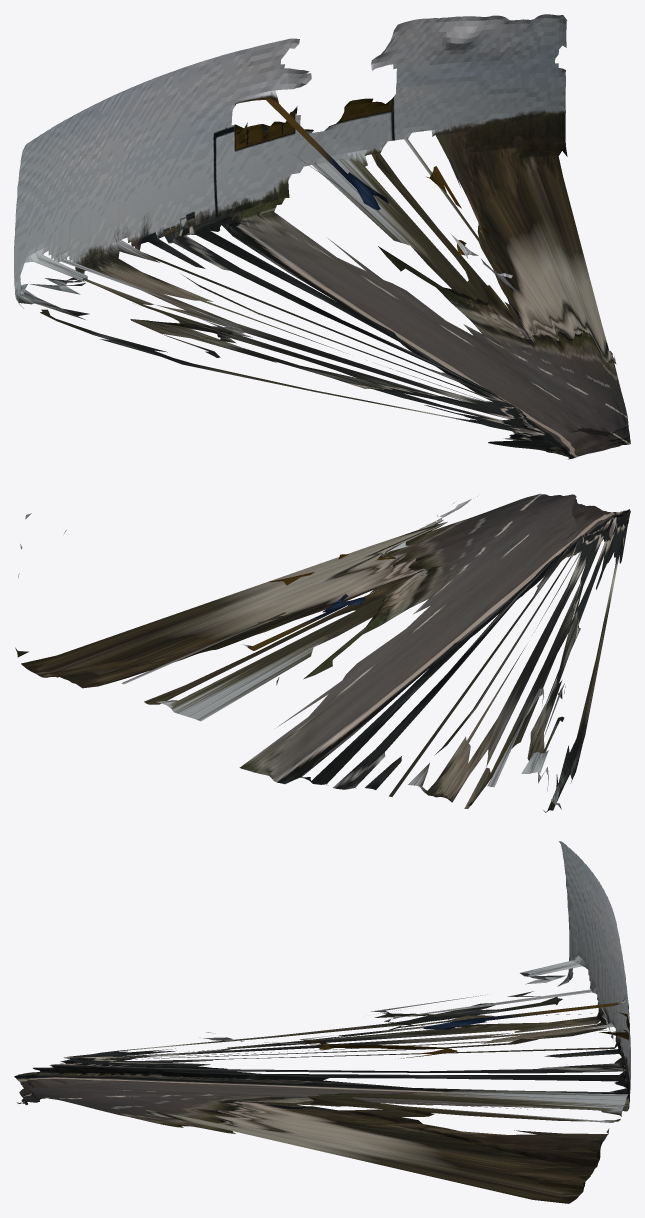
3 views of the same model, one above another, from view 1: azimuth 30°, elevation 25°; view 2: azimuth 150°, elevation 25°; view 3: azimuth 270°, elevation 25° (orthographic). The views are drawn at different scales.
Parts seen in each view (by area): view 1: defaultobject; view 2: defaultobject; view 3: defaultobject.
Boxes of the visible parts, bbox=[...] form: defaultobject: bbox=[14, 14, 630, 459]; defaultobject: bbox=[15, 493, 630, 812]; defaultobject: bbox=[14, 841, 630, 1203].
Size of the model in its own units: 41.12 by 13.15 by 44.81.
Materials: 1 (1 with a texture image).
